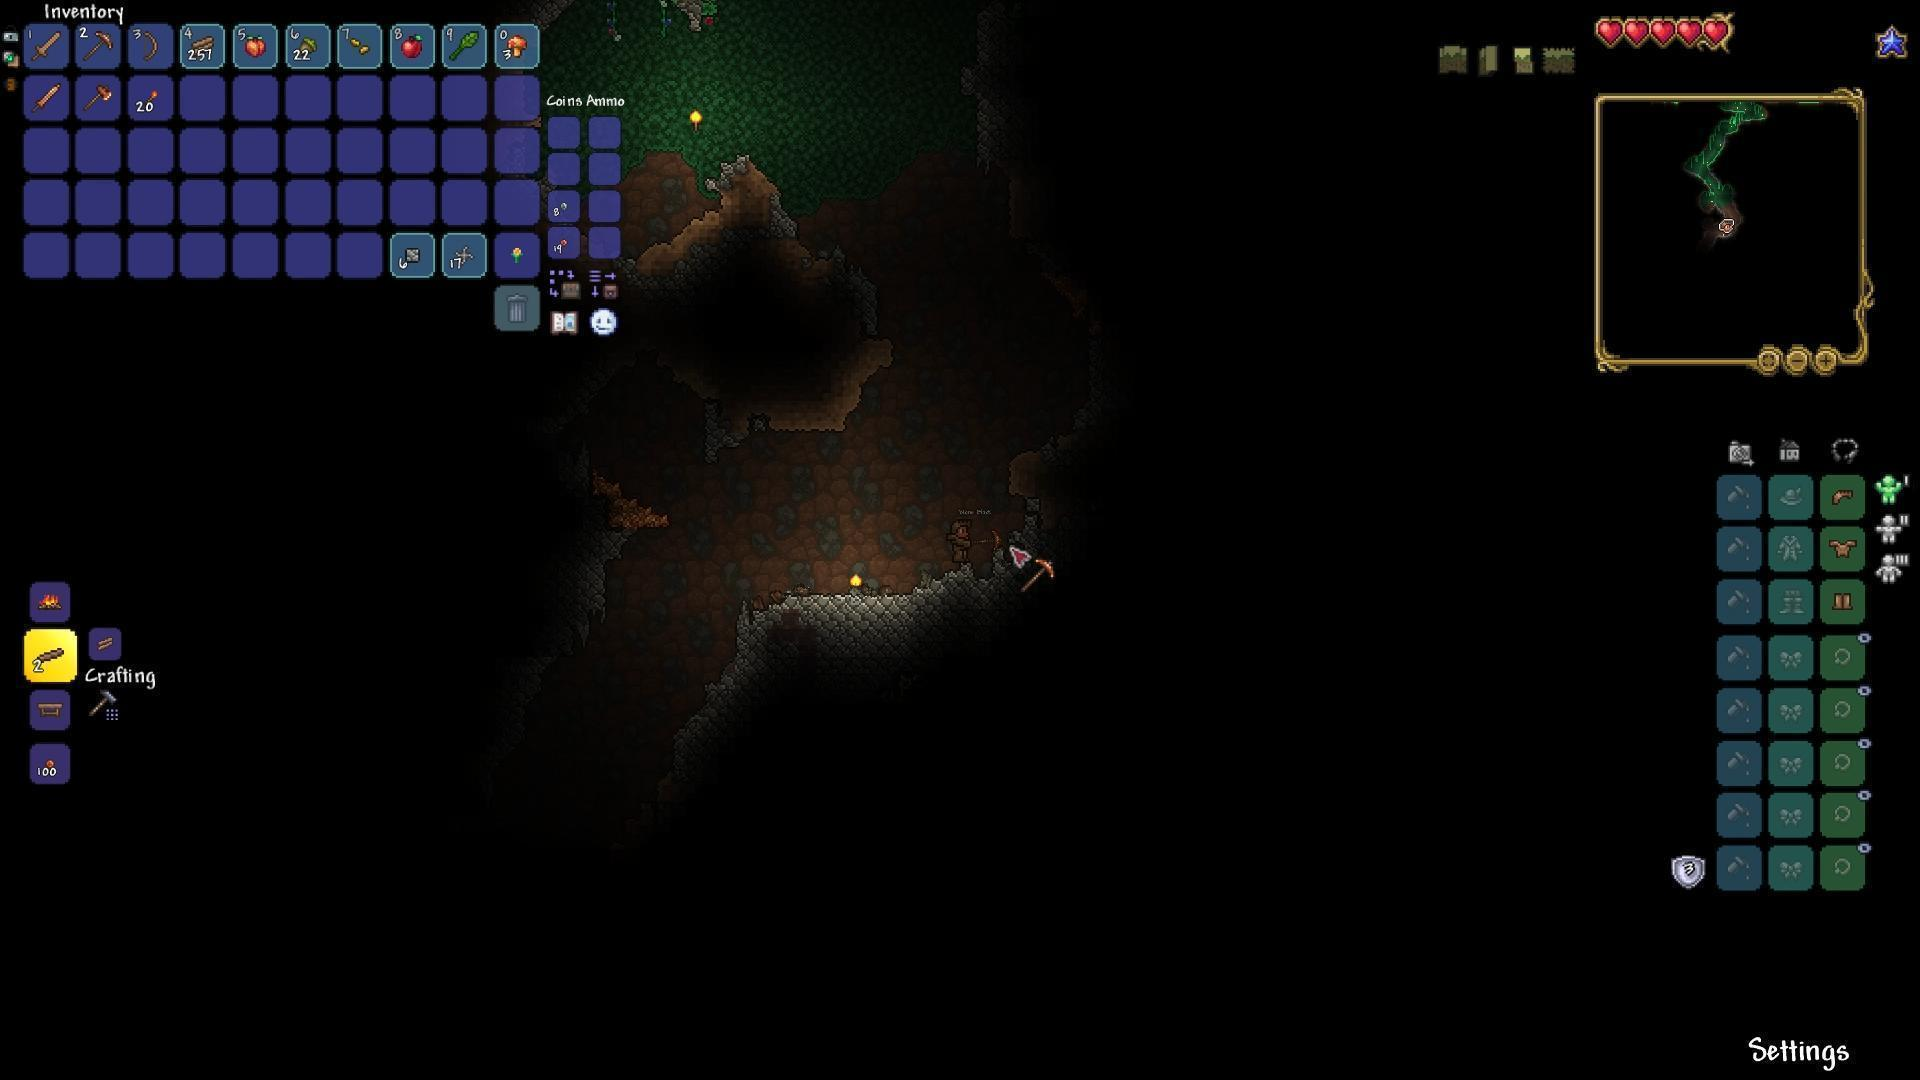bow: (140, 28, 160, 62)
breastplate: (1828, 537, 1859, 562)
helmet: (1829, 484, 1857, 512)
legs: (1832, 592, 1853, 612)
pickaxe: (82, 30, 115, 65)
shuriken: (454, 244, 475, 266)
wood: (189, 32, 216, 57), (96, 633, 116, 653)
